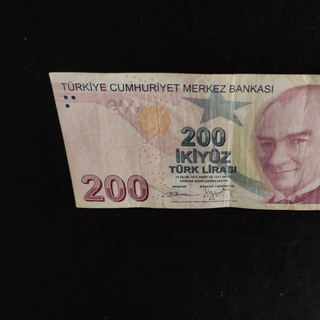200TLFront: (47, 71, 320, 210)
